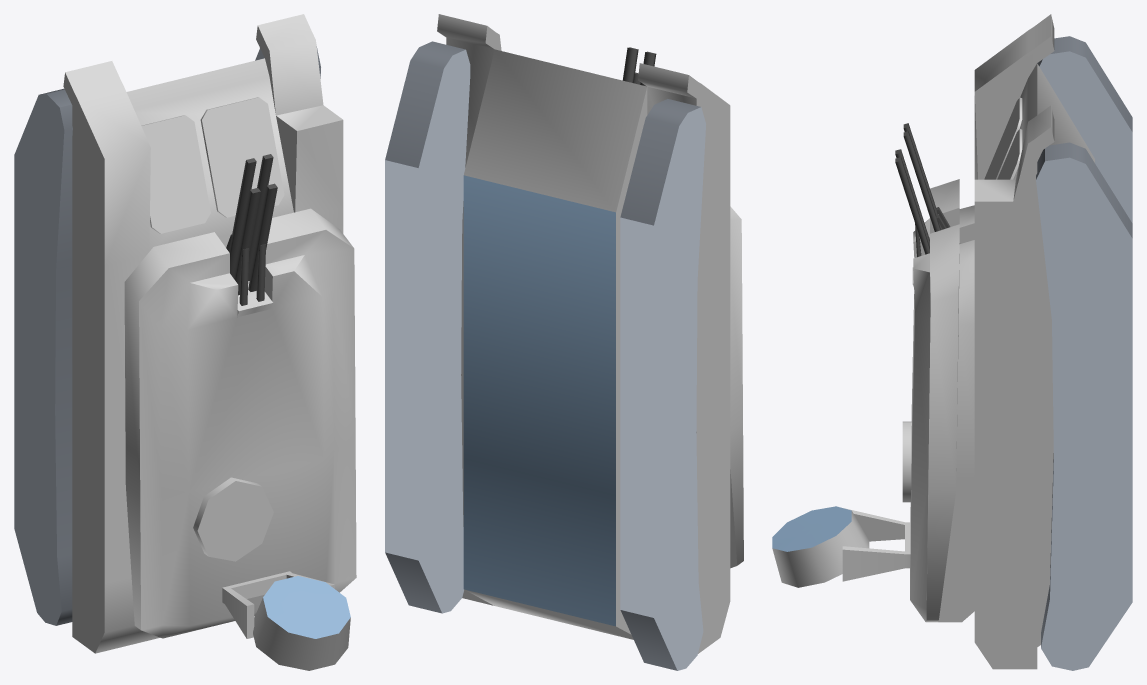
Rendered from zsu234.glb.
The picture shows the model from 3 angles, left to right: view 1: azimuth 30°, elevation 25°; view 2: azimuth 150°, elevation 25°; view 3: azimuth 270°, elevation 25°; orthographic projection. The views are drawn at different scales.
Visible parts, largest first — view 1: db_zsu23-4_p16077_Geometry_0.001, db_zsu23-4_p16130_Geometry_0.001, db_zsu23-4_p16084_Geometry_0.001, db_zsu23-4_p14102_Geometry_0.001, db_zsu23-4_p13958_Geometry_0.001; view 2: db_zsu23-4_p16130_Geometry_0.001, db_zsu23-4_p13958_Geometry_1.001, db_zsu23-4_p16077_Geometry_0.001, db_zsu23-4_p16084_Geometry_0.001, db_zsu23-4_p14102_Geometry_0.001; view 3: db_zsu23-4_p16077_Geometry_0.001, db_zsu23-4_p16130_Geometry_0.001, db_zsu23-4_p16084_Geometry_0.001, db_zsu23-4_p13958_Geometry_0.001, db_zsu23-4_p14102_Geometry_0.001.
Part boxes in pixels (x1,y1,x2,y2): db_zsu23-4_p16077_Geometry_0.001: (63, 14, 356, 670); db_zsu23-4_p16130_Geometry_0.001: (14, 48, 264, 625); db_zsu23-4_p16084_Geometry_0.001: (40, 46, 320, 625); db_zsu23-4_p14102_Geometry_0.001: (226, 154, 277, 305); db_zsu23-4_p13958_Geometry_0.001: (263, 576, 350, 638); db_zsu23-4_p16130_Geometry_0.001: (385, 49, 705, 670); db_zsu23-4_p13958_Geometry_1.001: (463, 175, 615, 626); db_zsu23-4_p16077_Geometry_0.001: (437, 14, 743, 653); db_zsu23-4_p16084_Geometry_0.001: (385, 41, 700, 670); db_zsu23-4_p14102_Geometry_0.001: (622, 47, 656, 86); db_zsu23-4_p16077_Geometry_0.001: (772, 14, 1094, 669); db_zsu23-4_p16130_Geometry_0.001: (1036, 51, 1132, 670); db_zsu23-4_p16084_Geometry_0.001: (1036, 36, 1132, 646); db_zsu23-4_p13958_Geometry_0.001: (772, 506, 851, 551); db_zsu23-4_p14102_Geometry_0.001: (895, 123, 959, 257).
Size of the model in its own units: 3.49 by 7.27 by 4.38.
